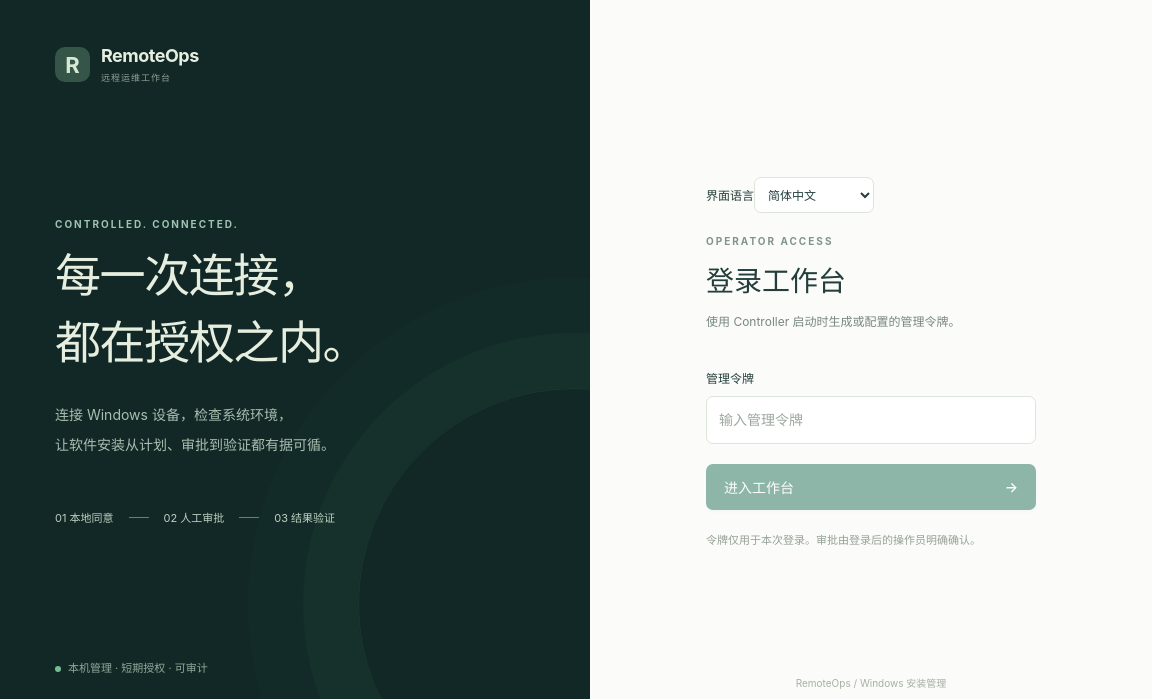
management UI › shows authenticated Tailscale connection state and addresses in configuration
In the password field labelled "管理令牌": (871, 420) [706,396,1036,444], type "test-token"
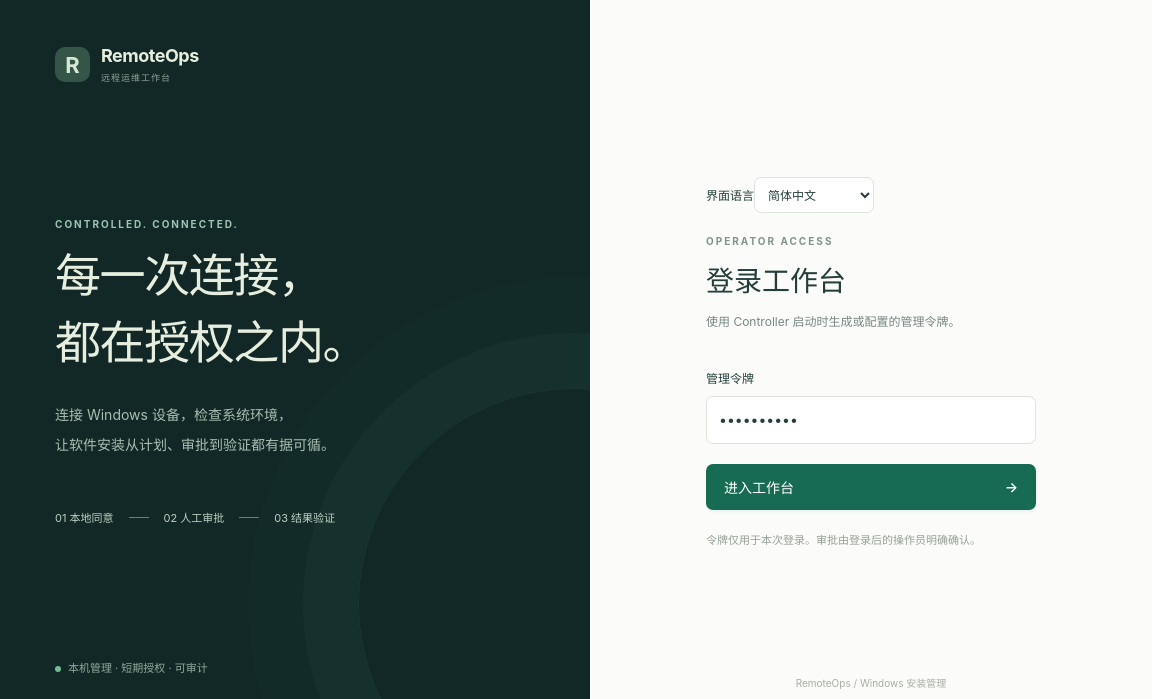
Submit the form, box [706,169,1036,551]
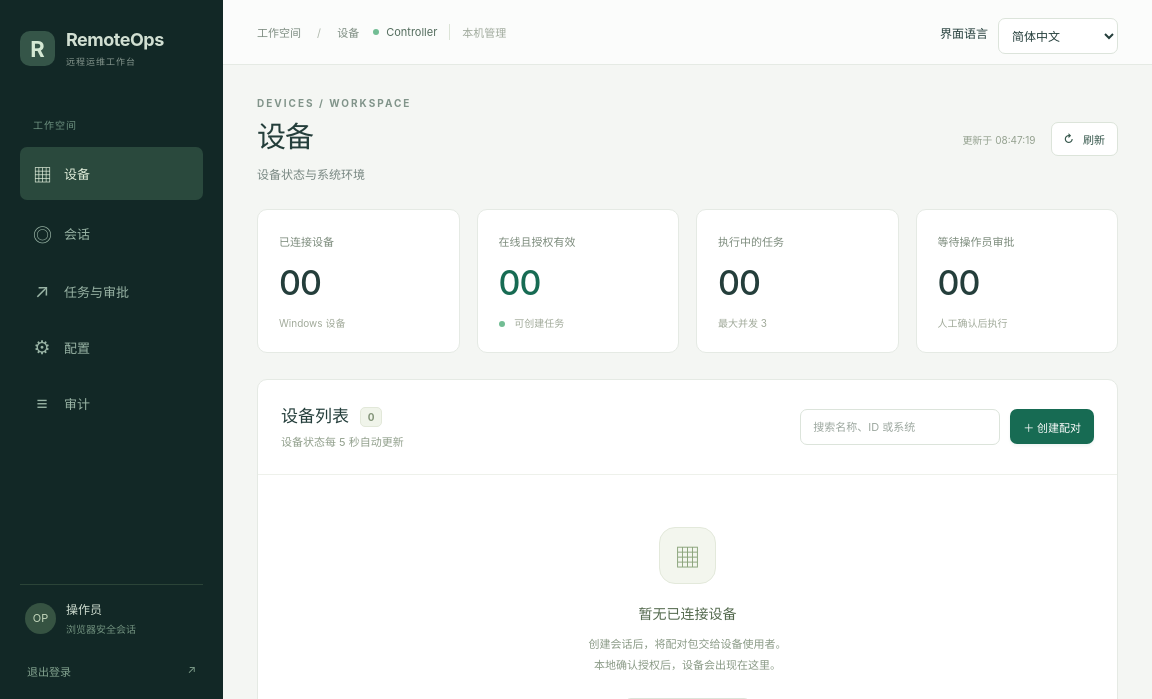
Click the button "⚙ 配置": click(112, 348) [20,323,203,372]
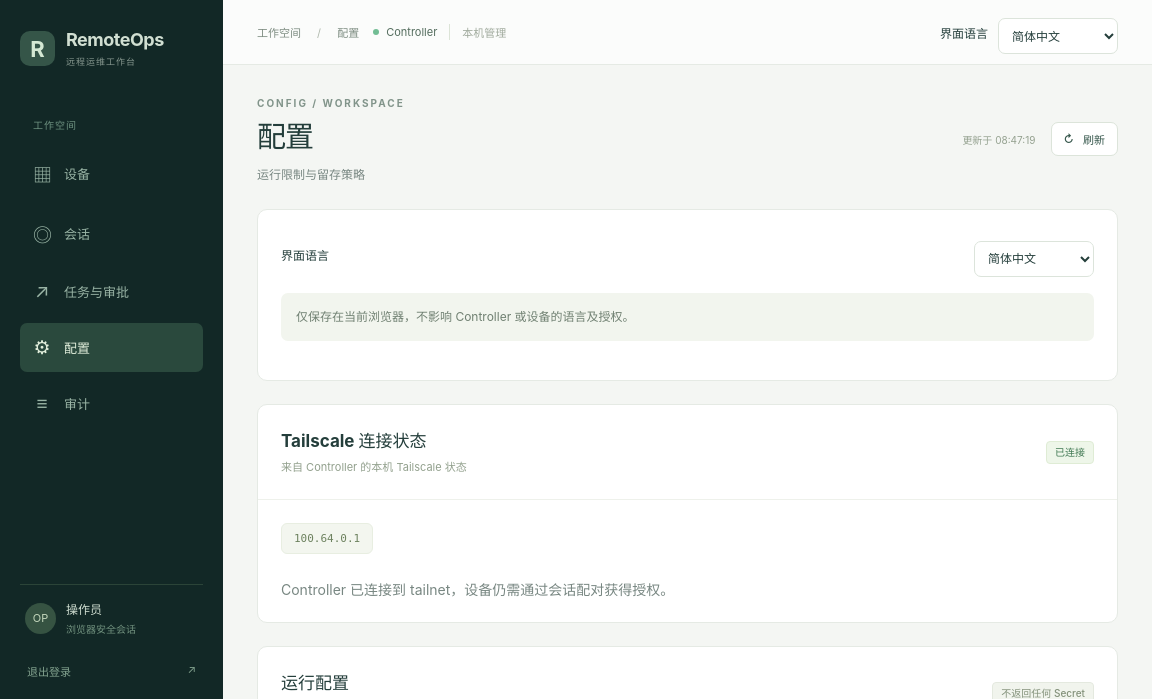
Check: the element with class "network-card" shows "Tailscale 连接状态", box [281,432,426,452]
Check: the element with class "network-card" shows "已连接", box [1055,446,1085,458]
Check: the element with class "network-card" shows "100.64.0.1", box [294,532,360,545]
